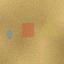person: (6, 29, 12, 38)
structure: (39, 16, 59, 34)
vehicle: (22, 23, 34, 37)
